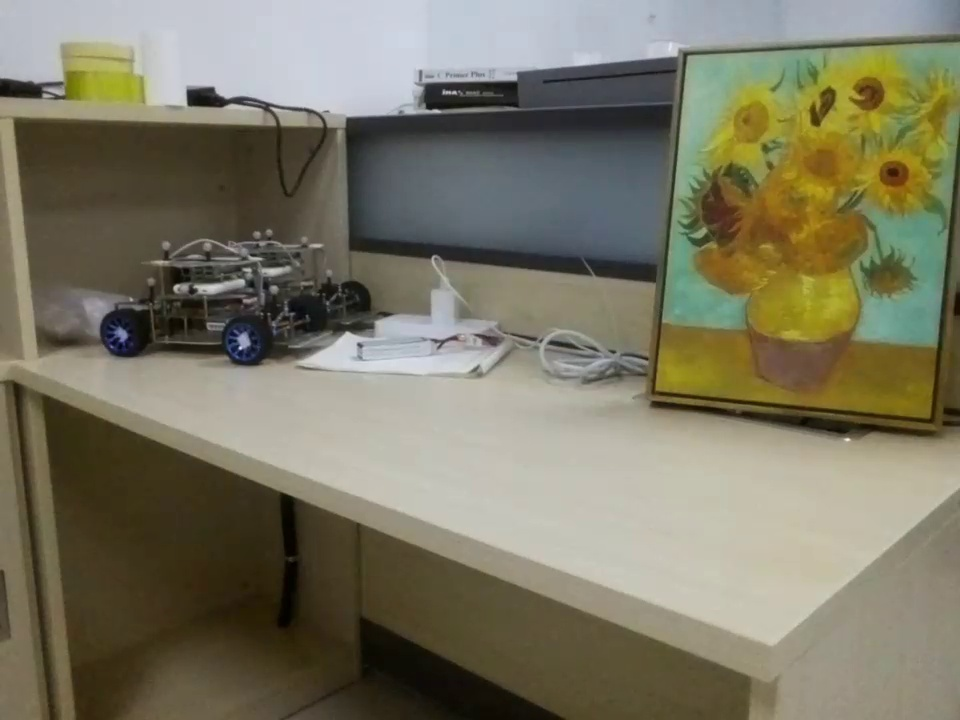painting: (654, 35, 957, 438)
